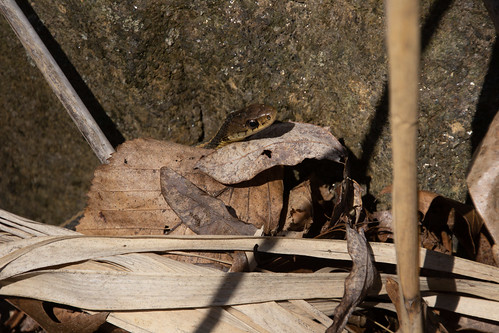vegetation: (5, 2, 497, 325)
